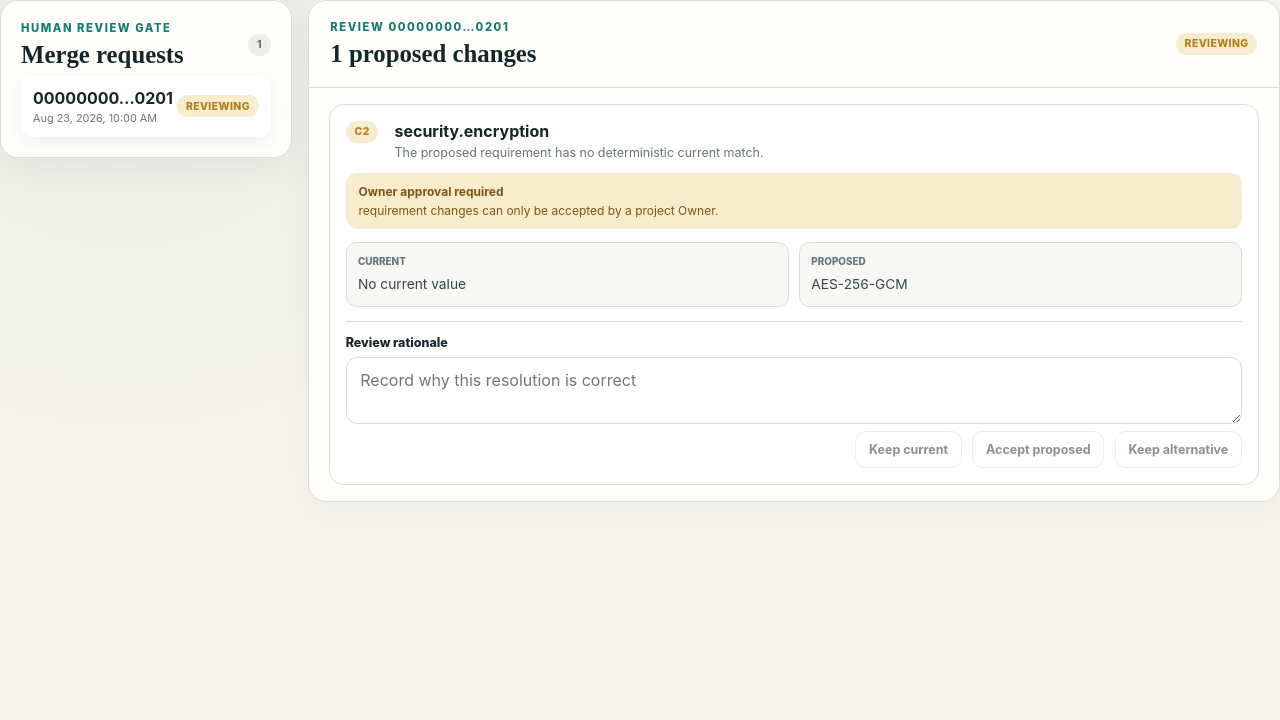
Test case: MergePanel › prevents an Editor from accepting a high-risk proposal
The width and height of the screenshot is (1280, 720).
Check: the text "Owner approval required" is shown, box [358, 184, 504, 199]
In the text box labelled "Review rationale": [794, 390] box [346, 357, 1242, 424], type "Keep the current policy."
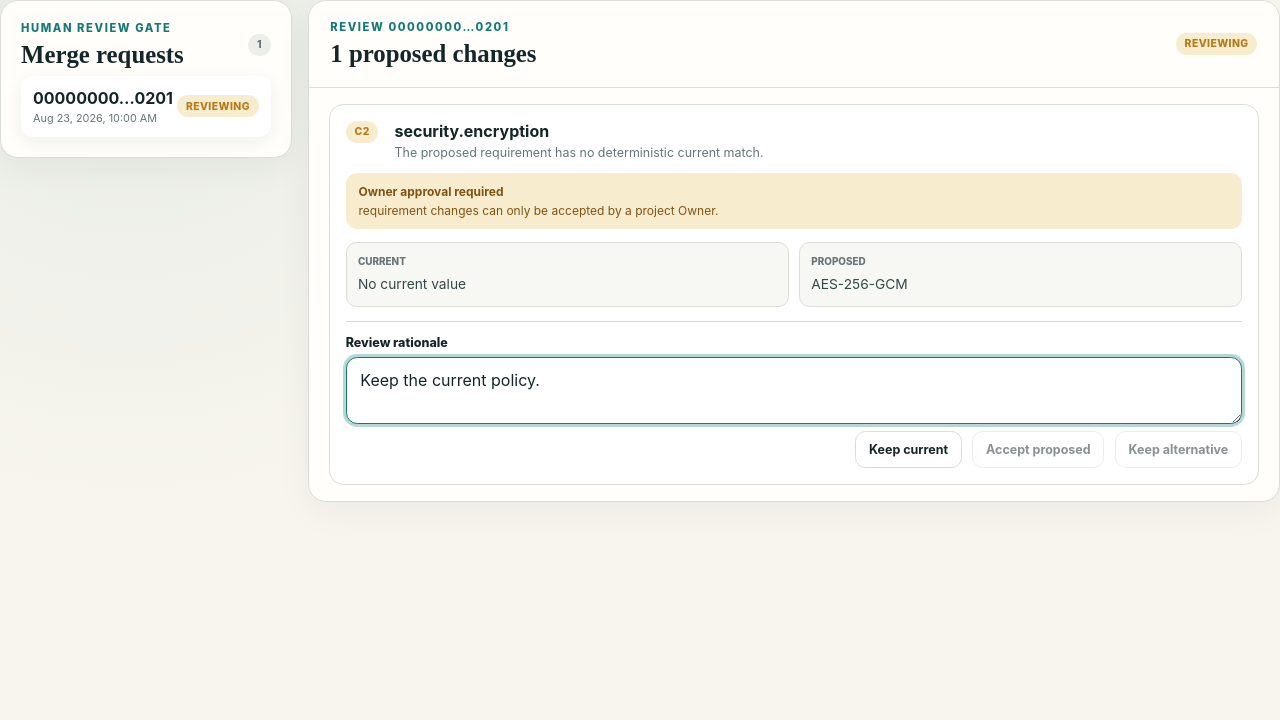
Check: the button "Accept proposed" is disabled, box [972, 431, 1104, 468]
Check: the button "Keep current" is enabled, box [855, 431, 962, 468]
